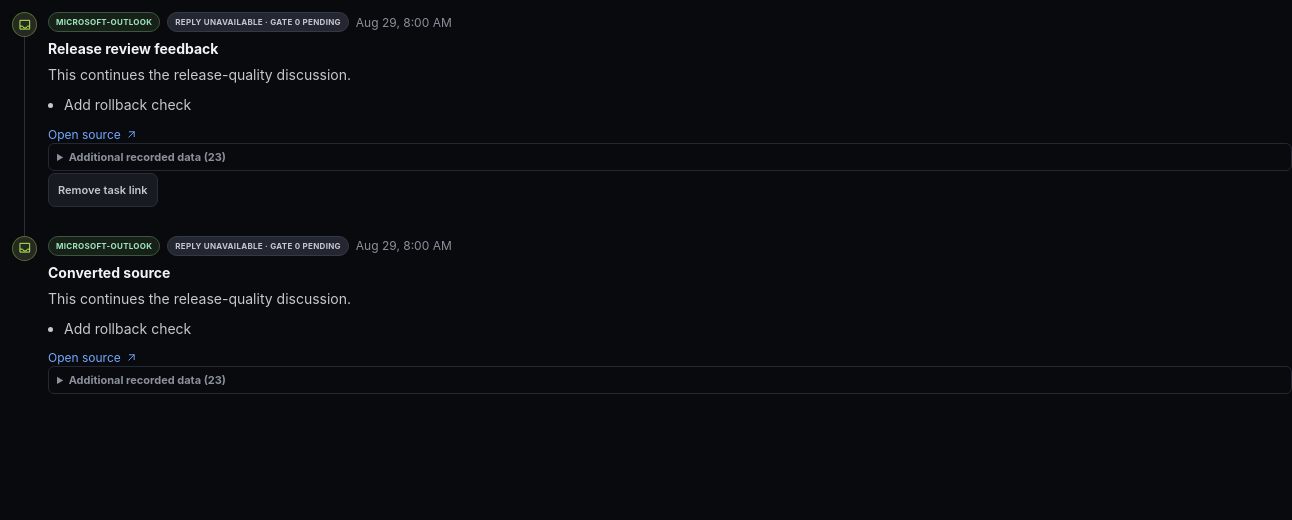
Test: Undo posts the exact body under a NEW key and announces the restored link
The image size is (1292, 520).
Click the button "Remove task link" at (103, 190), box [48, 173, 158, 207]
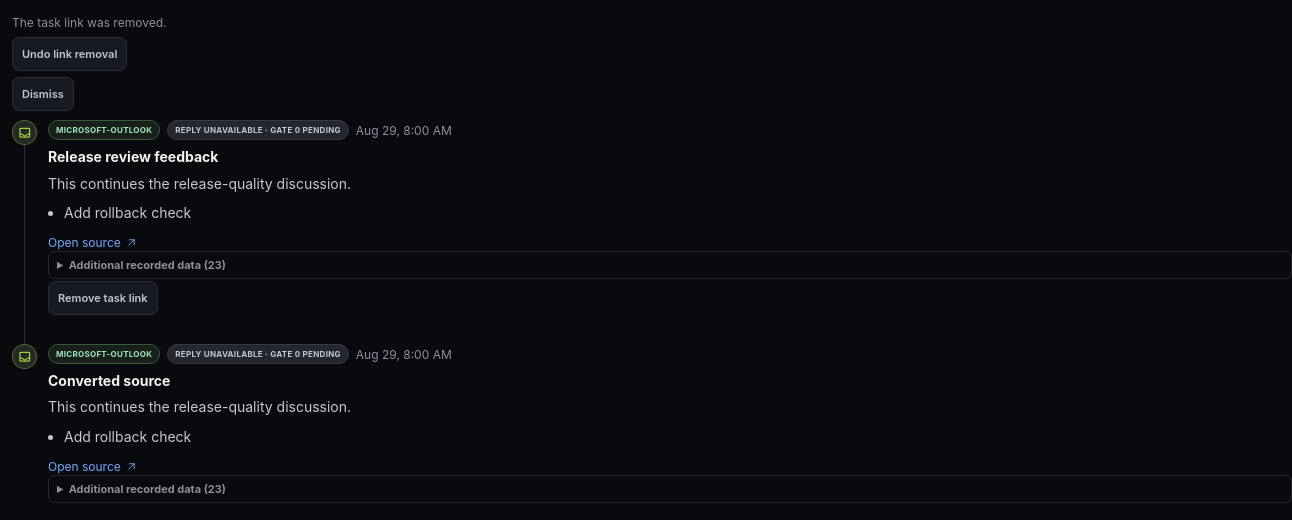
Expected: the button "Undo link removal" is shown
Click the button "Undo link removal" at (70, 54), box [12, 37, 127, 71]
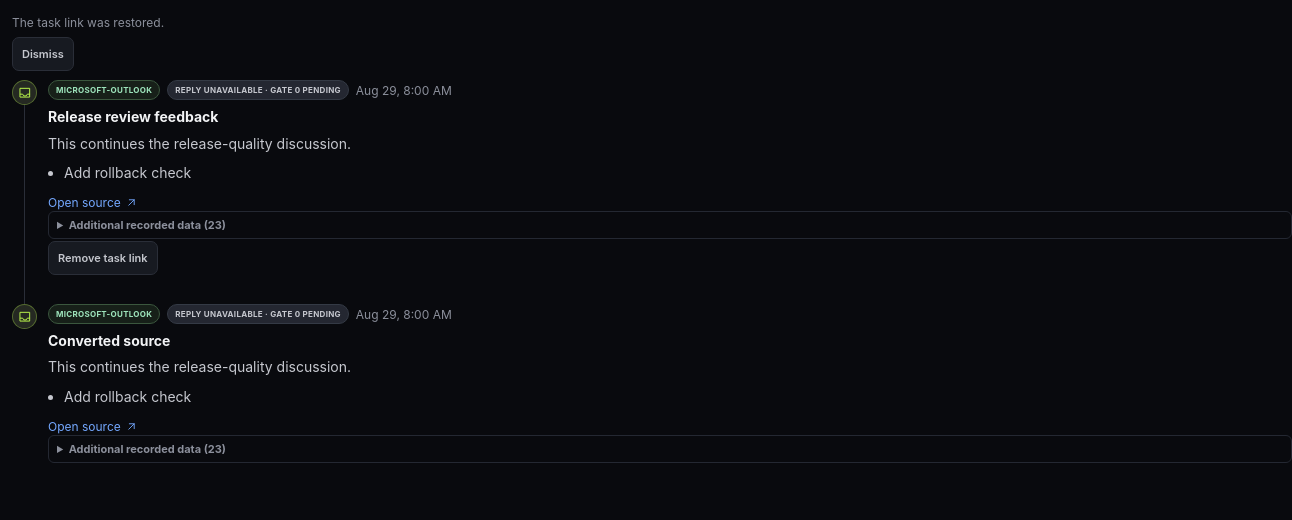
Expected: the button "Dismiss" is enabled, [12, 37, 74, 71]
Expected: the text "The task link was restored." is shown, [12, 14, 164, 31]
Expected: the button "Undo link removal" is gone
